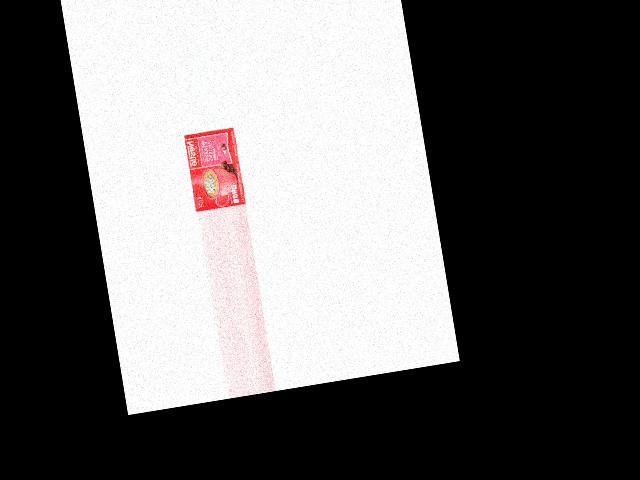chocolate: (185, 128, 249, 212)
